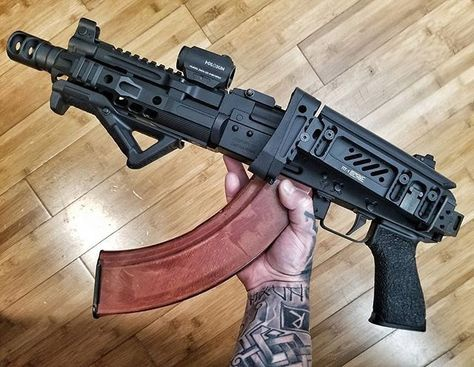ak47: (10, 17, 465, 332)
